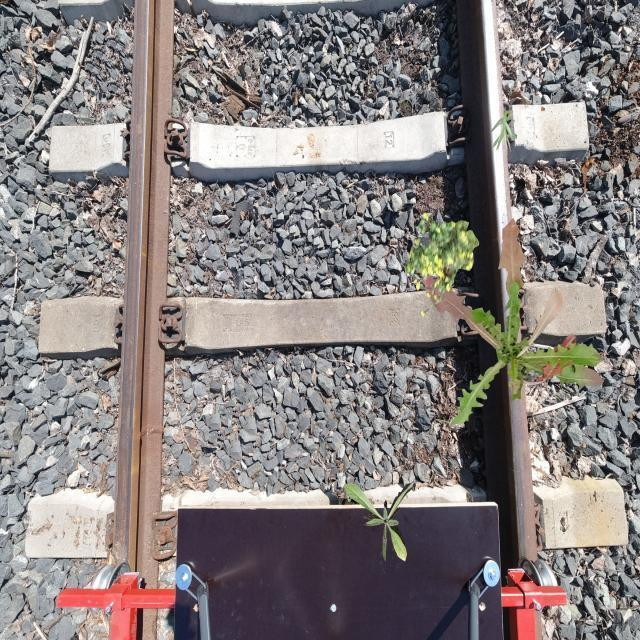Plant: (424, 218, 604, 427), (405, 213, 480, 318), (344, 482, 416, 563), (491, 110, 518, 152), (457, 389, 476, 414)
